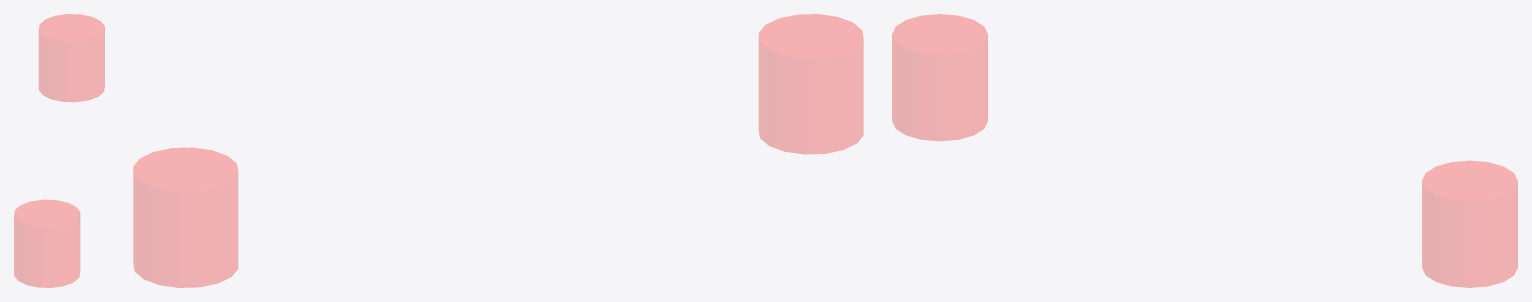
Rendered from s03b_tb3-obstacles.glb.
The picture shows the model from 3 angles, left to right: view 1: azimuth 30°, elevation 25°; view 2: azimuth 150°, elevation 25°; view 3: azimuth 270°, elevation 25°; orthographic projection. The views are drawn at different scales.
Parts seen in each view (by area): view 1: boulder-colonly (×2); view 2: boulder-colonly (×2); view 3: boulder-colonly (×2).
Boxes of the visible parts, left/top/right/bottom form: boulder-colonly (×2): left=14, top=14, right=104, bottom=287; boulder-colonly (×2): left=133, top=14, right=863, bottom=287; boulder-colonly (×2): left=892, top=14, right=1517, bottom=287.
Size of the model in its own units: 9.24 by 2 by 13.05.
